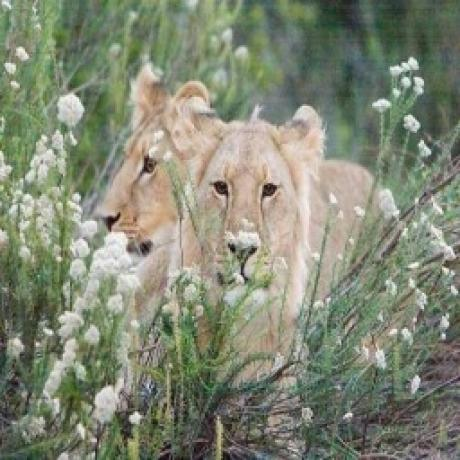Lion: (167, 102, 382, 360), (96, 60, 205, 257)
